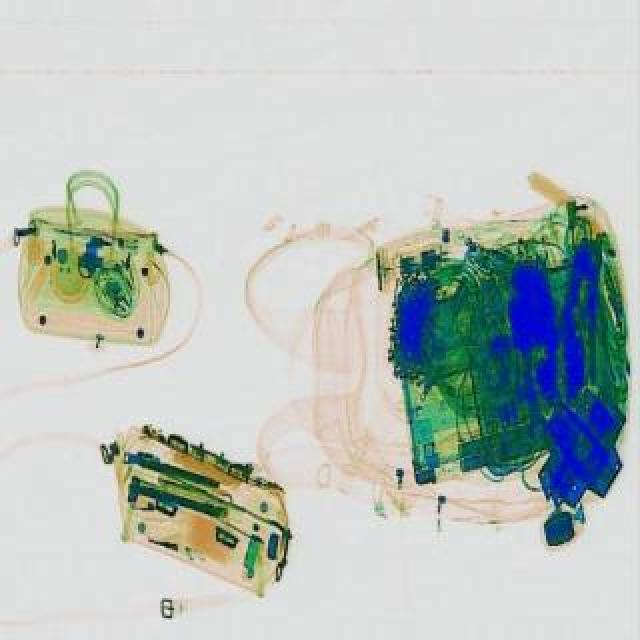scissors: (512, 348, 556, 444)
wrench: (548, 236, 612, 384)
